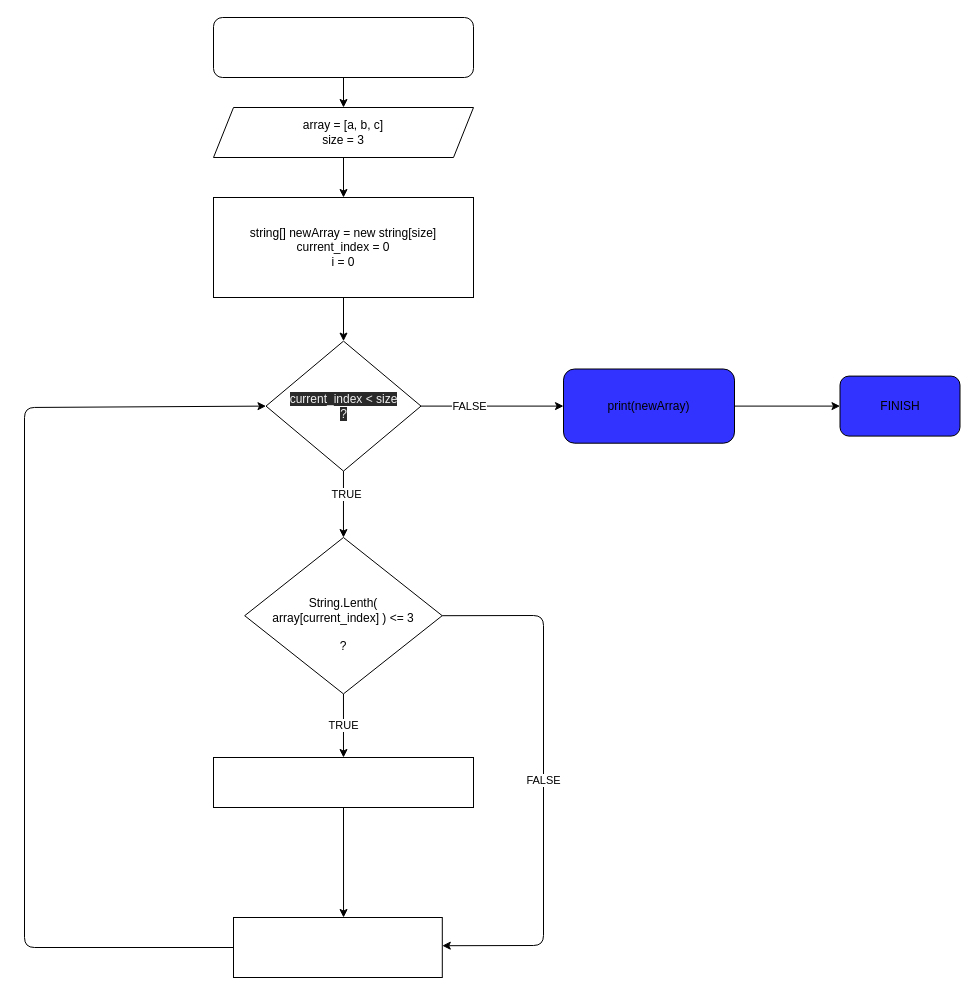
Image size: 978x995. Some labels were removed from this diagram. Each missing label, with the centre of its shape:
current_index = current_index +1: the point at 337,947
newarray[i] = array[current_index] i = i +1: the point at 343,782
START: the point at 343,47
